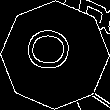O_E: (29, 33, 81, 77)
